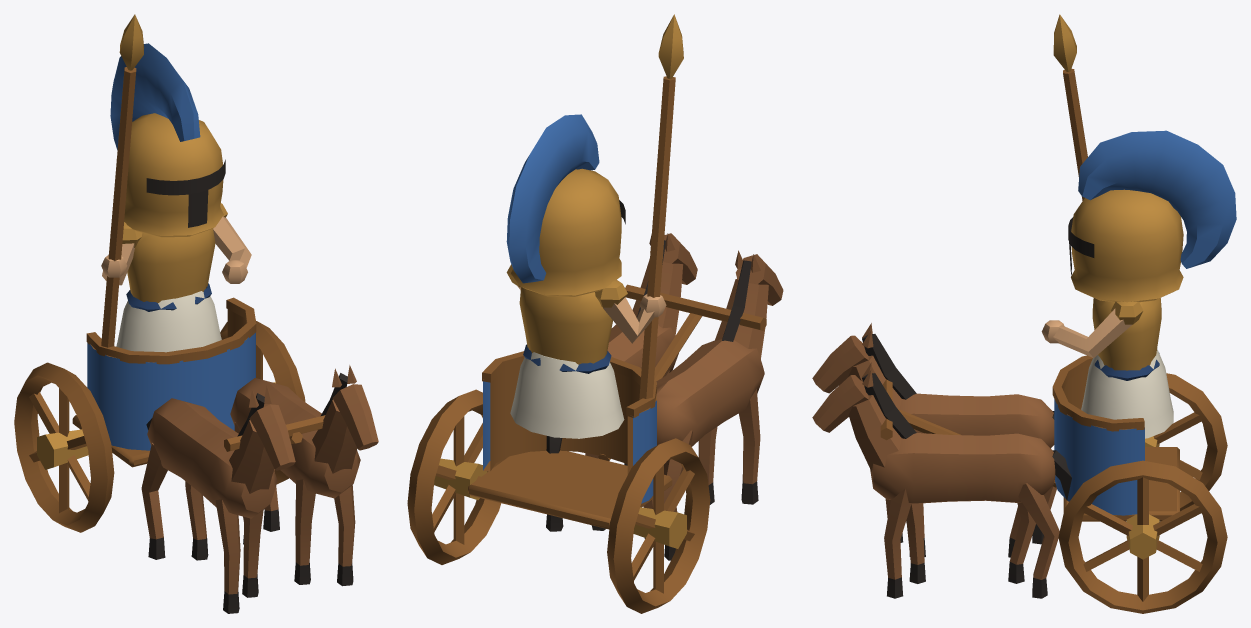
File: chariot.glb
The picture shows the model from 3 angles, left to right: view 1: azimuth 30°, elevation 25°; view 2: azimuth 150°, elevation 25°; view 3: azimuth 270°, elevation 25°; orthographic projection. The views are drawn at different scales.
Parts seen in each view (by area): view 1: chariot; view 2: chariot; view 3: chariot.
Part boxes in pixels (bbox=[...]): chariot: bbox=[14, 14, 378, 613]; chariot: bbox=[407, 14, 783, 613]; chariot: bbox=[812, 14, 1236, 613].
Size of the model in its own units: 0.49 by 1.09 by 0.8022.
